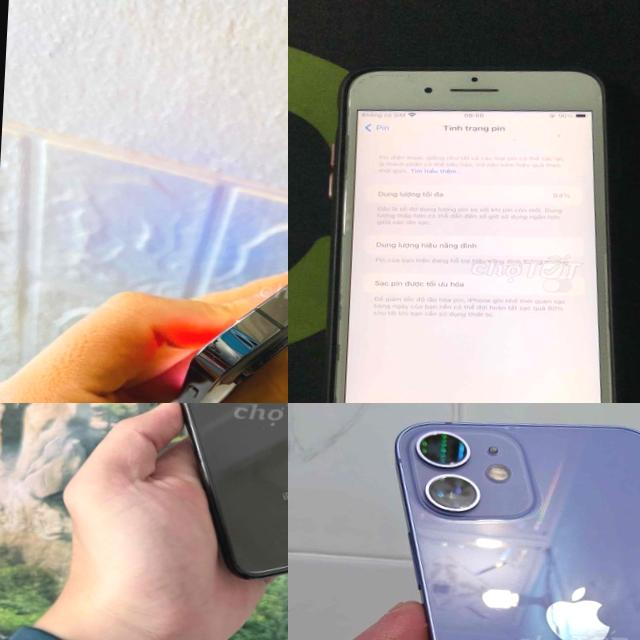scratch: (357, 66, 477, 86), (334, 288, 346, 322), (330, 339, 345, 363), (318, 389, 342, 403), (253, 422, 271, 433)
